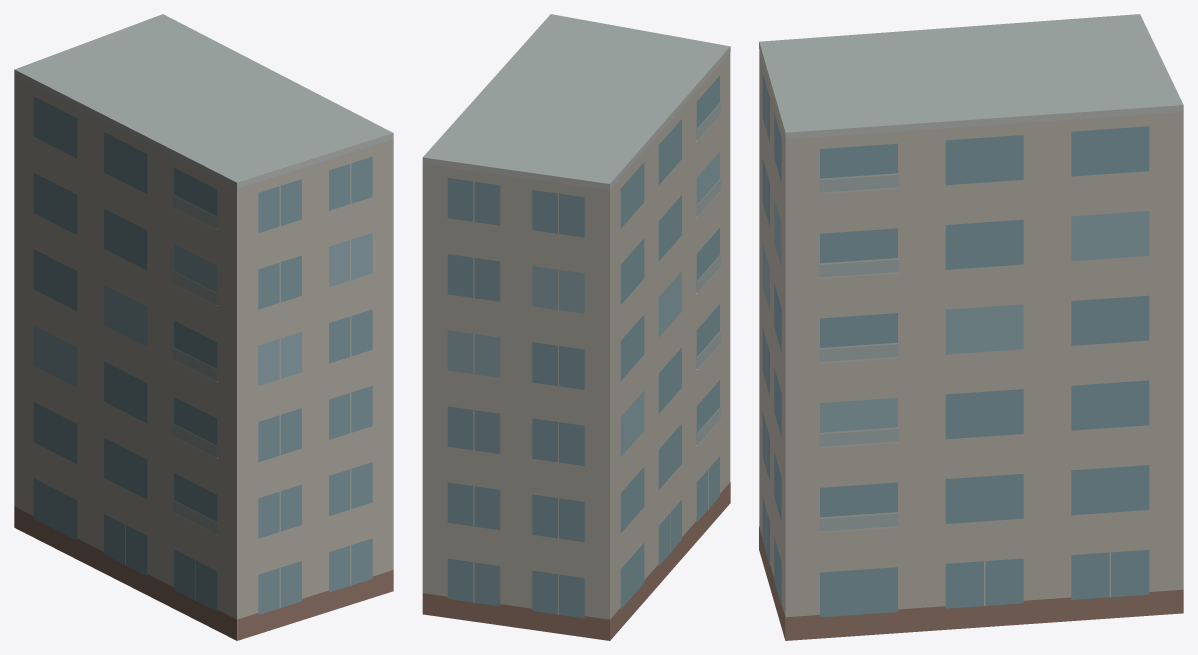
The model's file is survey-upis-32730230.glb.
The picture shows the model from 3 angles, left to right: view 1: azimuth 30°, elevation 25°; view 2: azimuth 150°, elevation 25°; view 3: azimuth 270°, elevation 25°; orthographic projection. The views are drawn at different scales.
Parts seen in each view (by area): view 1: survey-upis-32730230.tmp; view 2: survey-upis-32730230.tmp; view 3: survey-upis-32730230.tmp.
Boxes of the visible parts, box(x1,y1,x2,y2) form: survey-upis-32730230.tmp: box(14, 14, 393, 640); survey-upis-32730230.tmp: box(422, 14, 730, 640); survey-upis-32730230.tmp: box(759, 14, 1183, 640).
Bounding box in the file's own units: 9.17 × 18.3 × 13.87.
